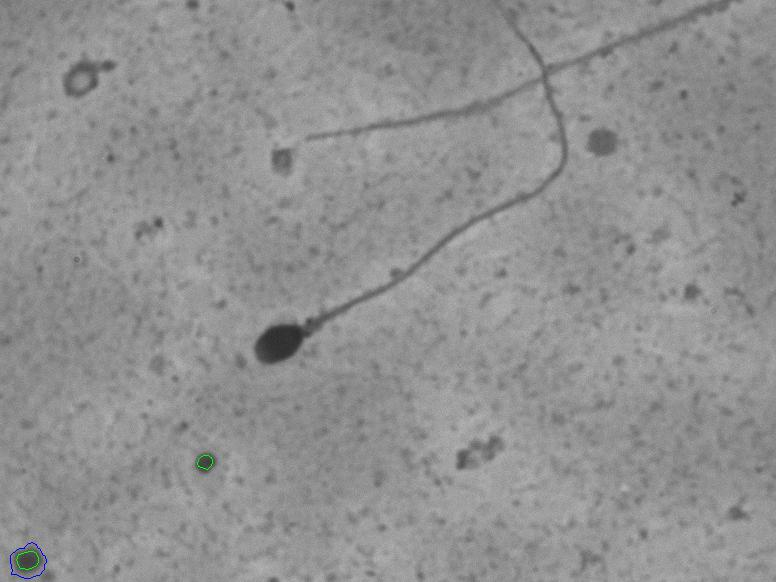Normal: (240, 12, 583, 381)
